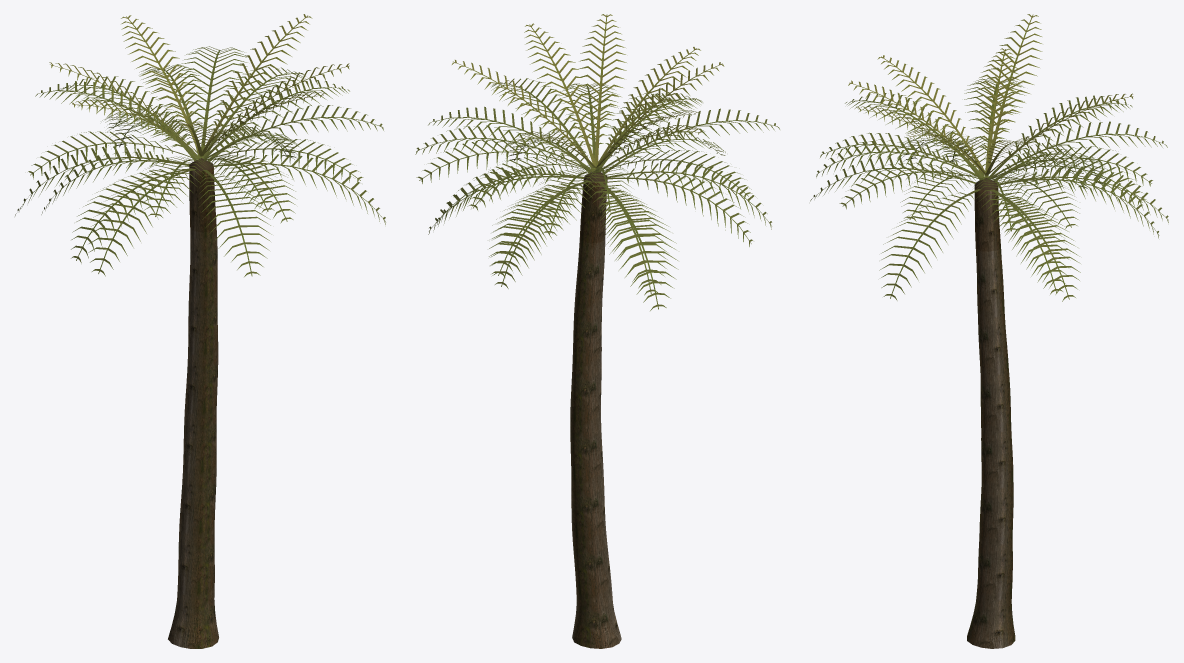
Rendered from washingtonia_palm.glb.
The picture shows the model from 3 angles, left to right: view 1: azimuth 30°, elevation 25°; view 2: azimuth 150°, elevation 25°; view 3: azimuth 270°, elevation 25°; orthographic projection. The views are drawn at different scales.
Parts seen in each view (by area): view 1: WashingtoniaPalm; view 2: WashingtoniaPalm; view 3: WashingtoniaPalm.
Part boxes in pixels (box(x1,y1,x2,y2)): WashingtoniaPalm: box(15, 14, 385, 648); WashingtoniaPalm: box(415, 14, 779, 648); WashingtoniaPalm: box(810, 14, 1168, 648).
Size of the model in its own units: 5.24 by 9.08 by 5.23.
4 materials, 4 textured.
